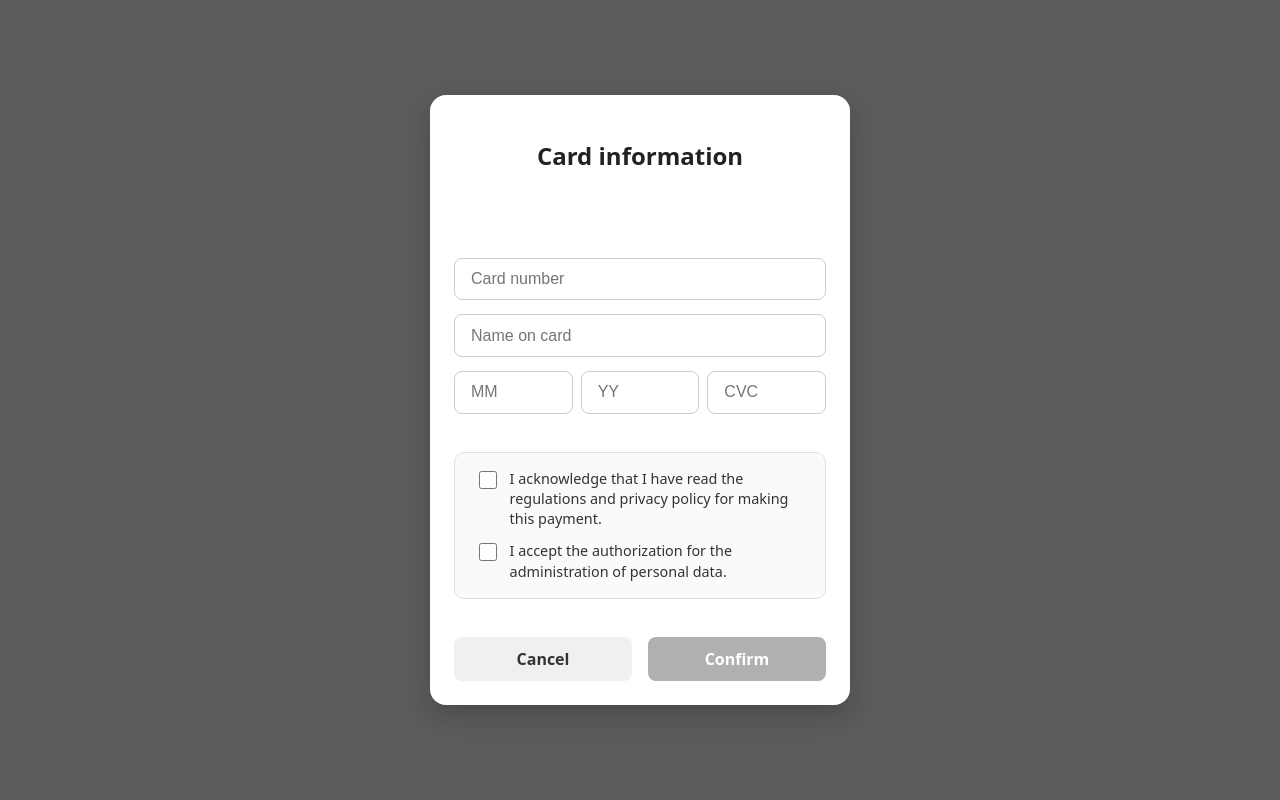
Test: CreditCardModal › Form Validation › should show validation error for empty card number
Check both checkboxes to enable submit
Click the 1st checkbox.
click(488, 480)  # box [479,471,497,489]
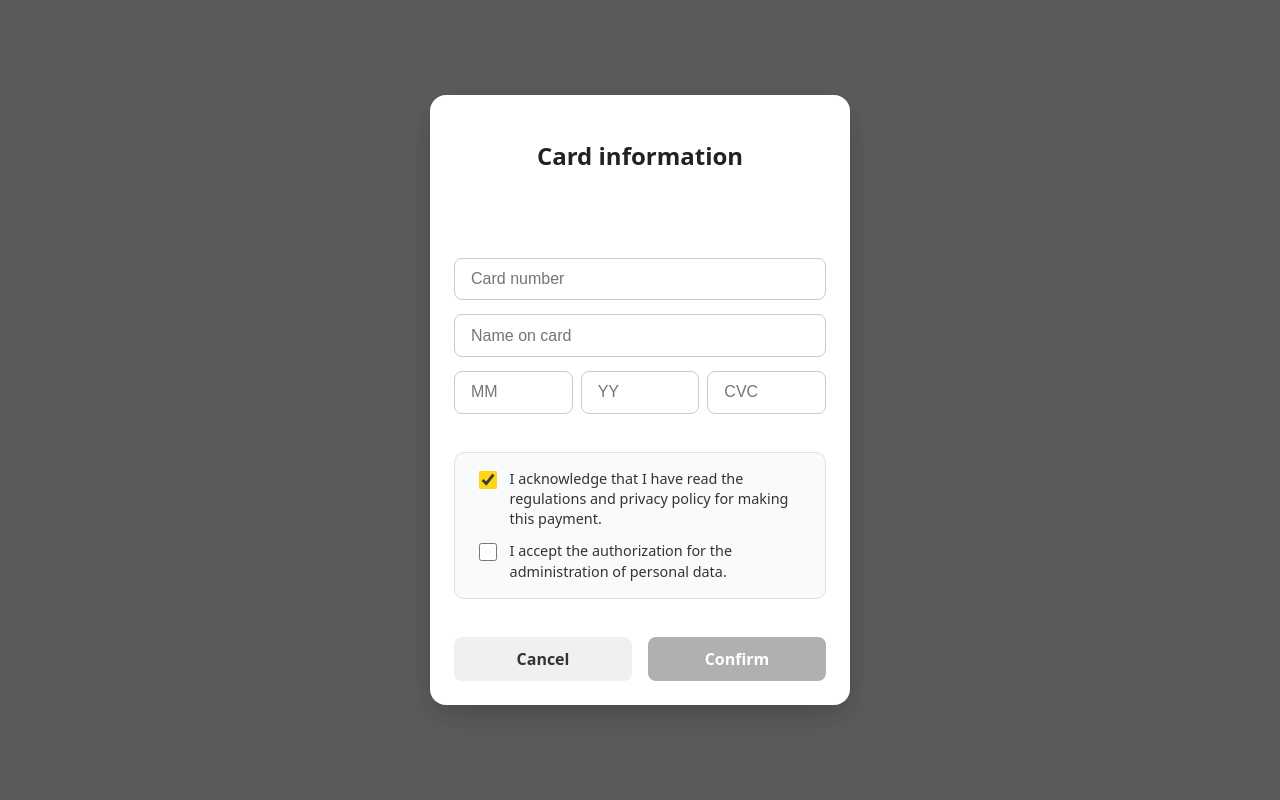
Click the 2nd checkbox.
click(488, 552)  # box [479,543,497,561]
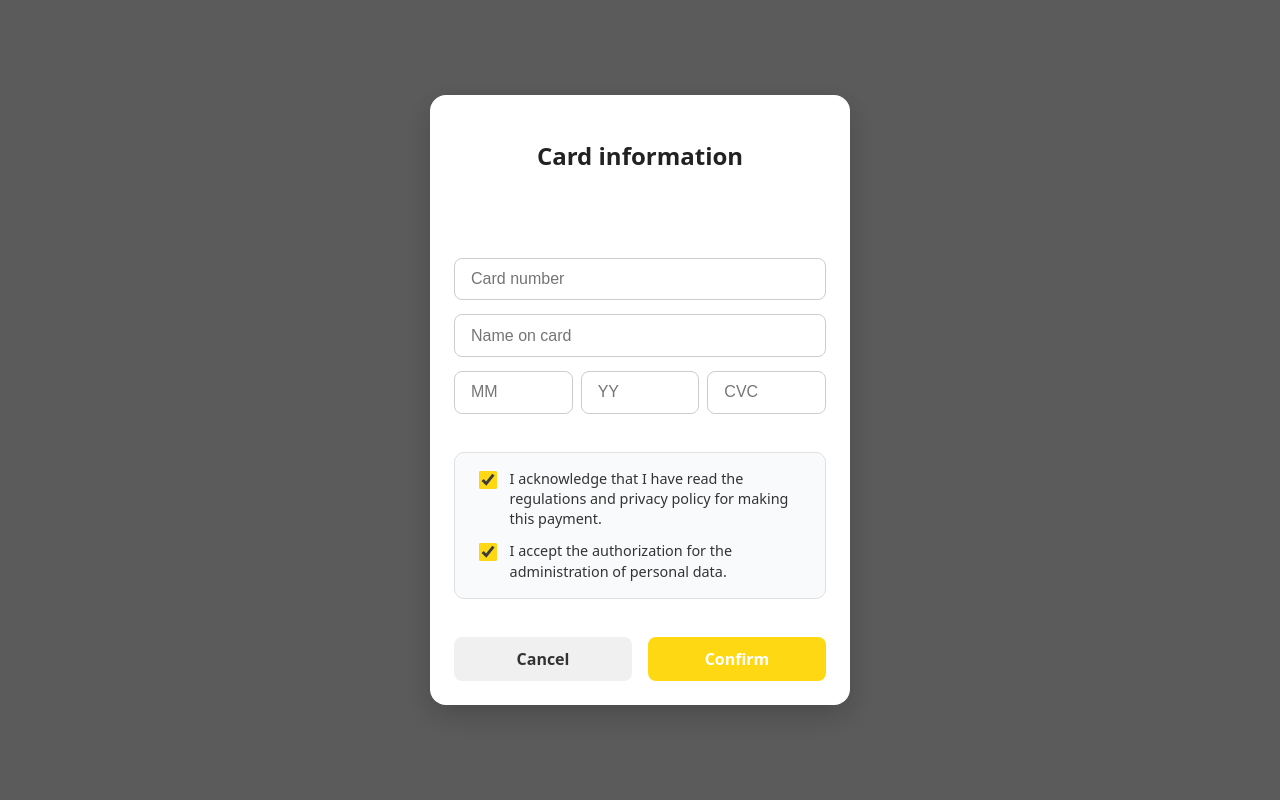
Submit the form with placeholder "Card number", box [454,258,826,681]
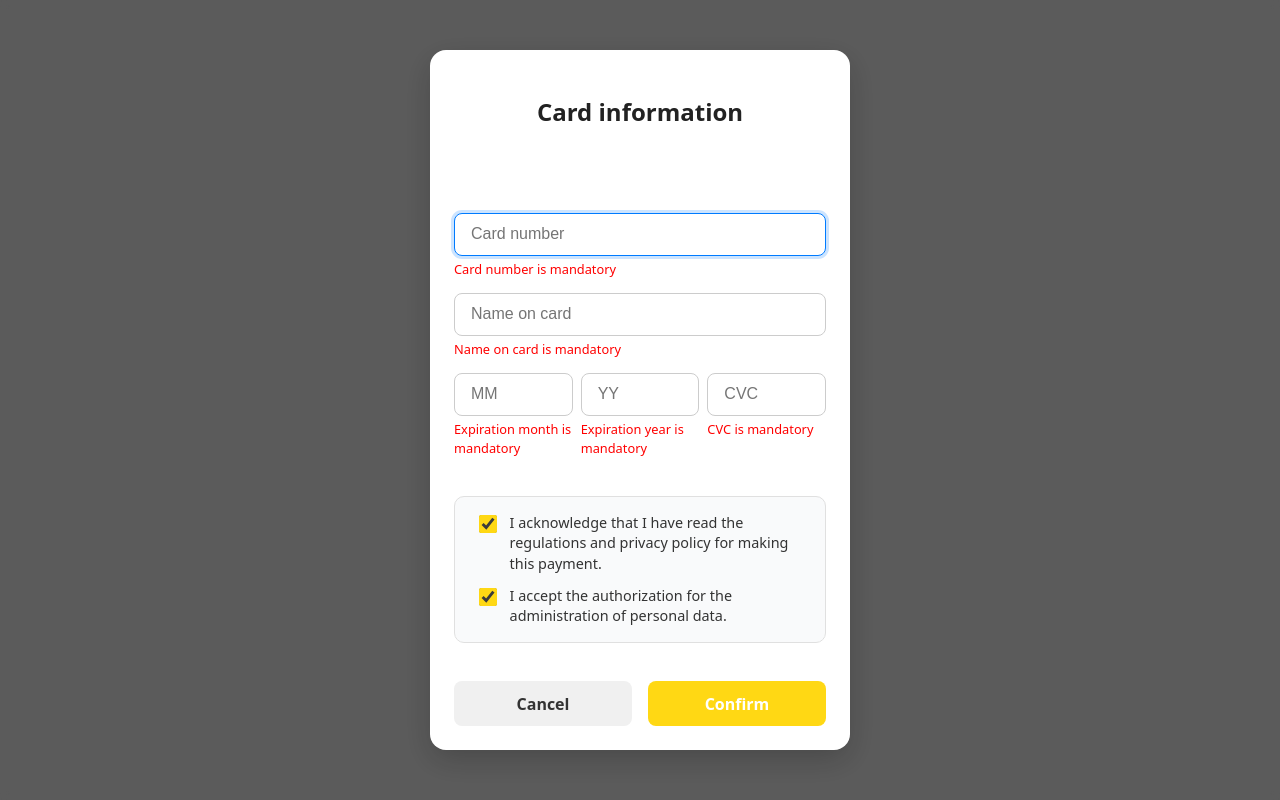
Check: the text "Card number is mandatory" is shown, box [454,260,616,278]
